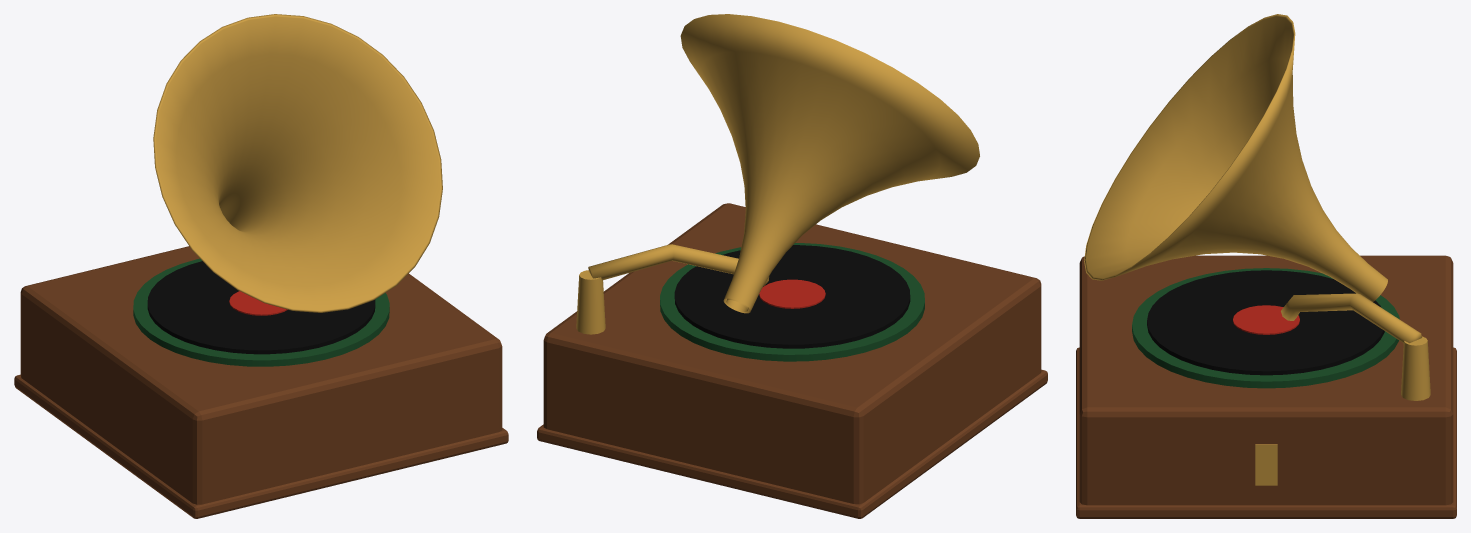
Rendered from gramophone.glb.
3 renders of one model, left to right at view 1: azimuth 30°, elevation 25°; view 2: azimuth 150°, elevation 25°; view 3: azimuth 270°, elevation 25°, orthographic. The views are drawn at different scales.
Visible parts, largest first — view 1: gramophone; view 2: gramophone; view 3: gramophone.
Boxes of the visible parts, x1,y1,x2,y2 form: gramophone: (14,14,508,518); gramophone: (537,14,1047,518); gramophone: (1076,14,1456,518).
Size of the model in its own units: 0.51 by 0.6006 by 0.51.
